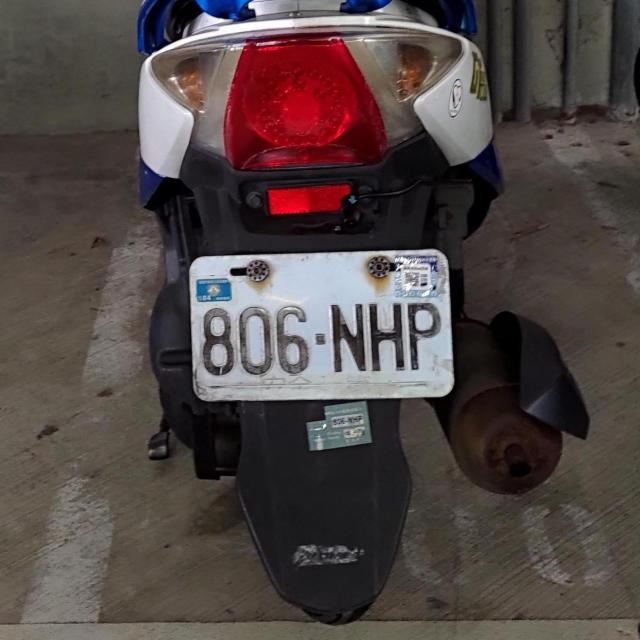W: (182, 238, 459, 414)
